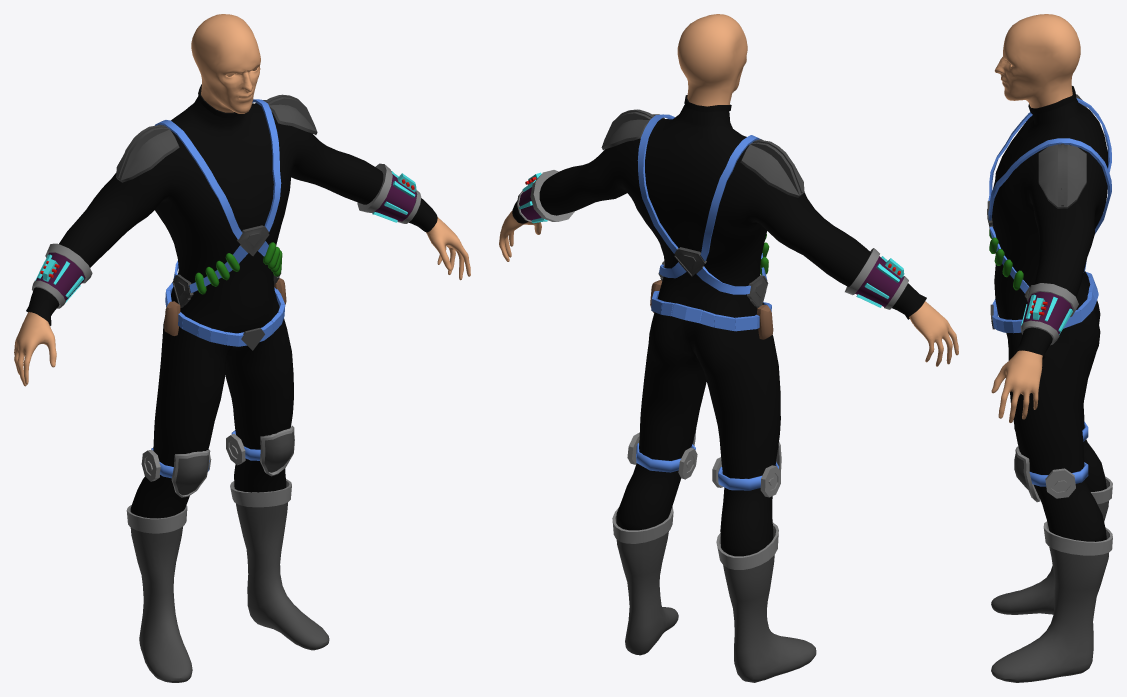
File: alien_soldier_unity_test.fbx
3 views of the same model, side by side, from view 1: azimuth 30°, elevation 25°; view 2: azimuth 150°, elevation 25°; view 3: azimuth 270°, elevation 25° (orthographic).
Parts seen in each view (by area): view 1: final_alien_soldier; view 2: final_alien_soldier; view 3: final_alien_soldier.
Part boxes in pixels (box(x1,y1,x2,y2)): final_alien_soldier: box(14, 14, 470, 682); final_alien_soldier: box(499, 14, 958, 682); final_alien_soldier: box(987, 14, 1112, 682).
Bounding box in the file's own units: 133 × 180 × 32.68.
